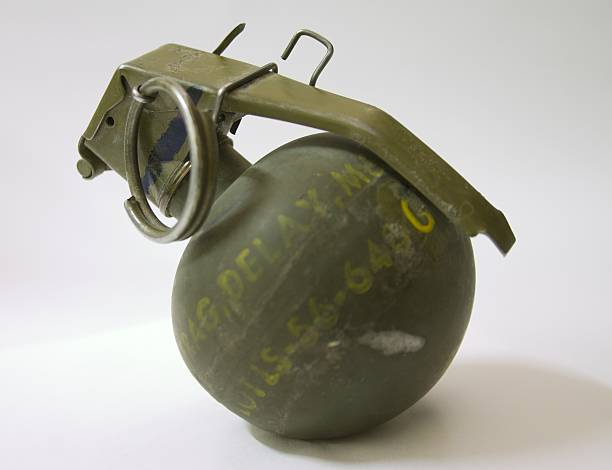e1: (76, 41, 518, 441)
